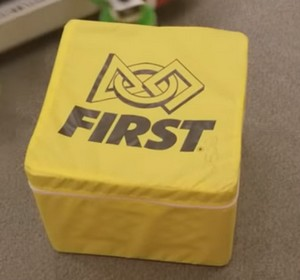cube: (25, 22, 252, 263)
